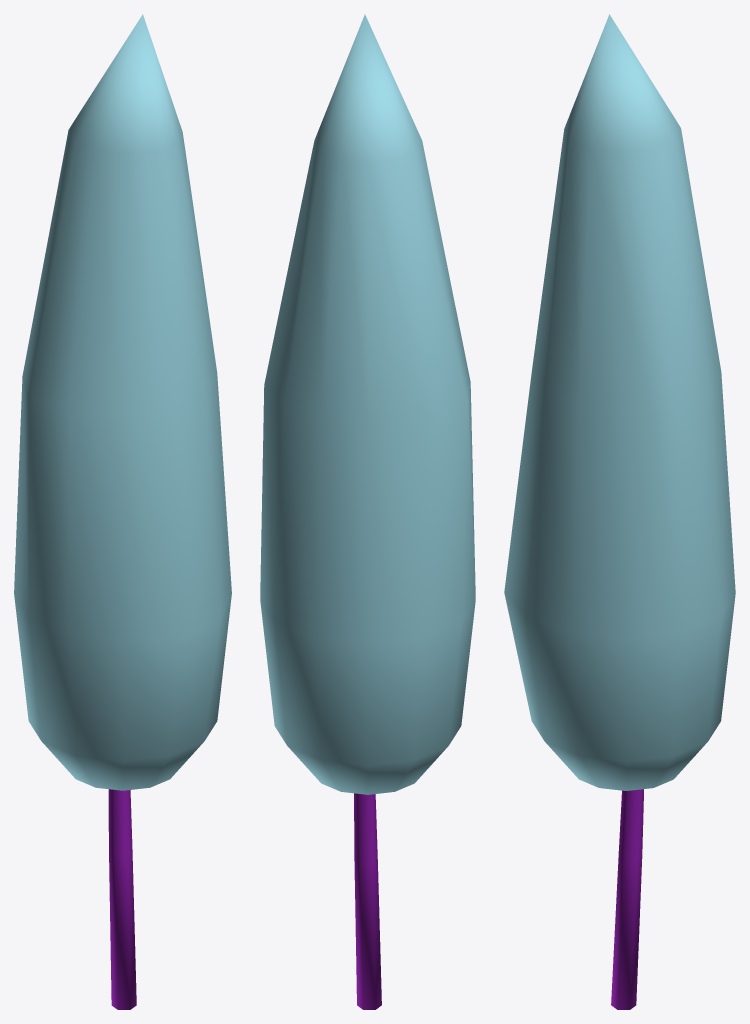
File: tree1.obj
3 renders of one model, left to right at view 1: azimuth 30°, elevation 25°; view 2: azimuth 150°, elevation 25°; view 3: azimuth 270°, elevation 25°, orthographic.
Parts seen in each view (by area): view 1: Sphere001, Line001; view 2: Sphere001, Line001; view 3: Sphere001, Line001.
Boxes of the visible parts, box(x1,y1,x2,y2) form: Sphere001: box(14, 14, 231, 790); Line001: box(108, 789, 136, 1009); Sphere001: box(260, 14, 475, 794); Line001: box(354, 793, 381, 1009); Sphere001: box(504, 14, 735, 790); Line001: box(611, 789, 643, 1009).
Size of the model in its own units: 78.23 by 388 by 81.63.
